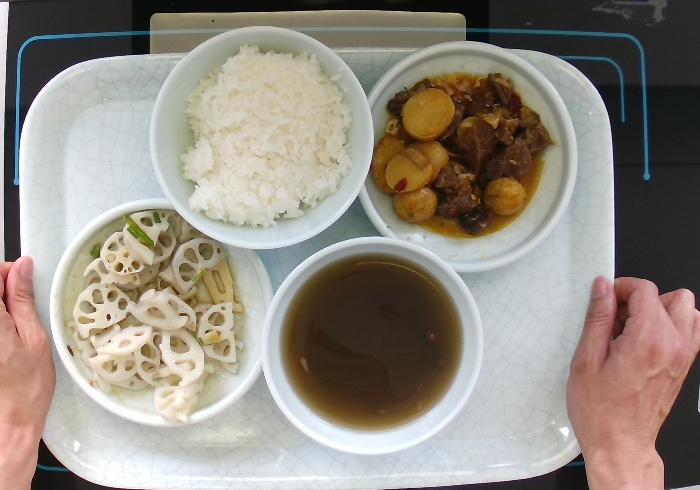JYsf-Fan_Wan: (147, 23, 376, 251), (259, 234, 486, 457)
JYsf-Xiao_Yuan_Pan: (48, 196, 275, 429)
